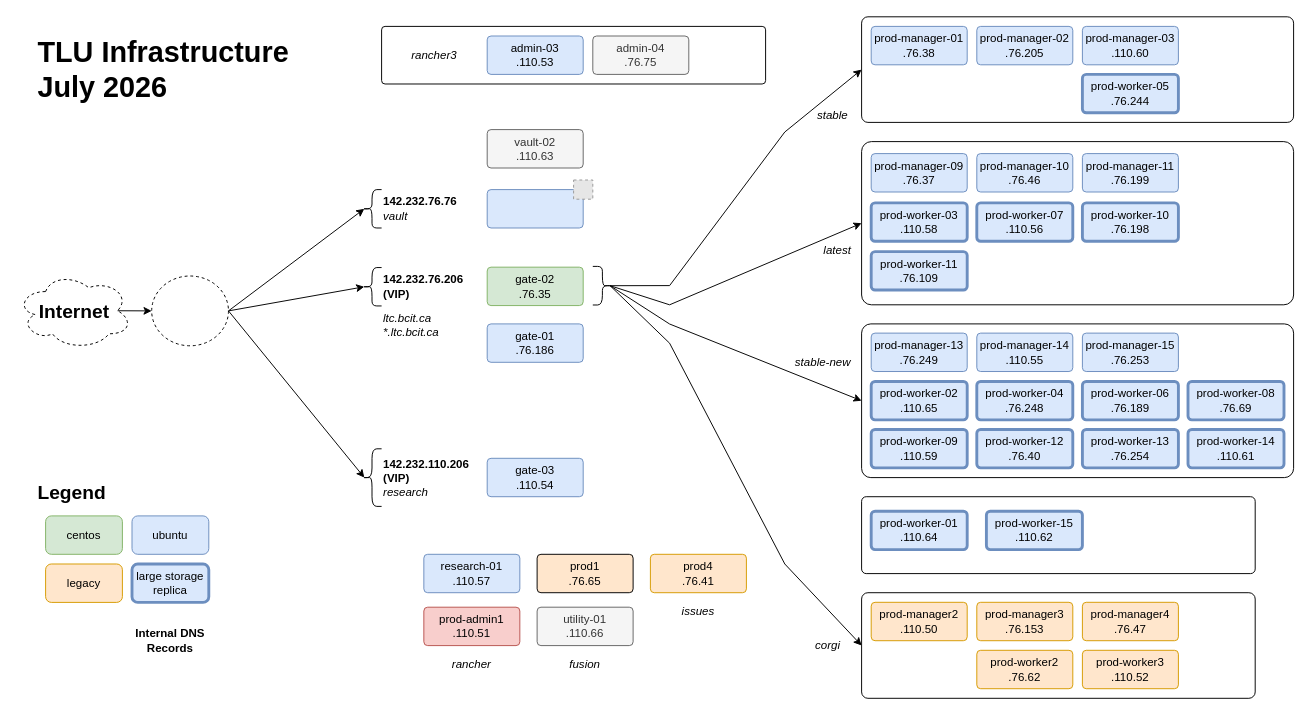
This 1310x715 diagram has some shape labels left out. Grey dashed boxes stand in for pictures. The box of each missing label's shape, as (x1, y1, x2, y2) in pixels:
cluster00: (381, 25, 766, 84)
cluster01: (861, 16, 1294, 122)
cluster03: (861, 141, 1294, 305)
cluster04: (861, 323, 1294, 478)
ITS DNS: (151, 275, 228, 346)
legacy cluster: (861, 592, 1255, 698)
testing: (861, 496, 1255, 574)
vault-03 .76.76: (486, 189, 583, 228)
